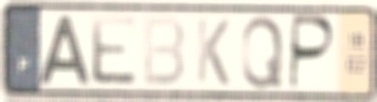A: (37, 13, 93, 87)
B: (141, 14, 187, 89)
E: (88, 13, 140, 88)
K: (195, 15, 232, 89)
P: (287, 13, 338, 94)
Q: (240, 13, 285, 91)
